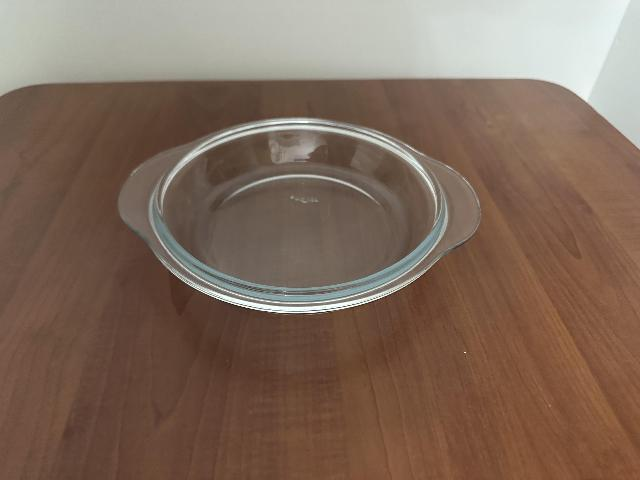Cam: (116, 117, 485, 316)
